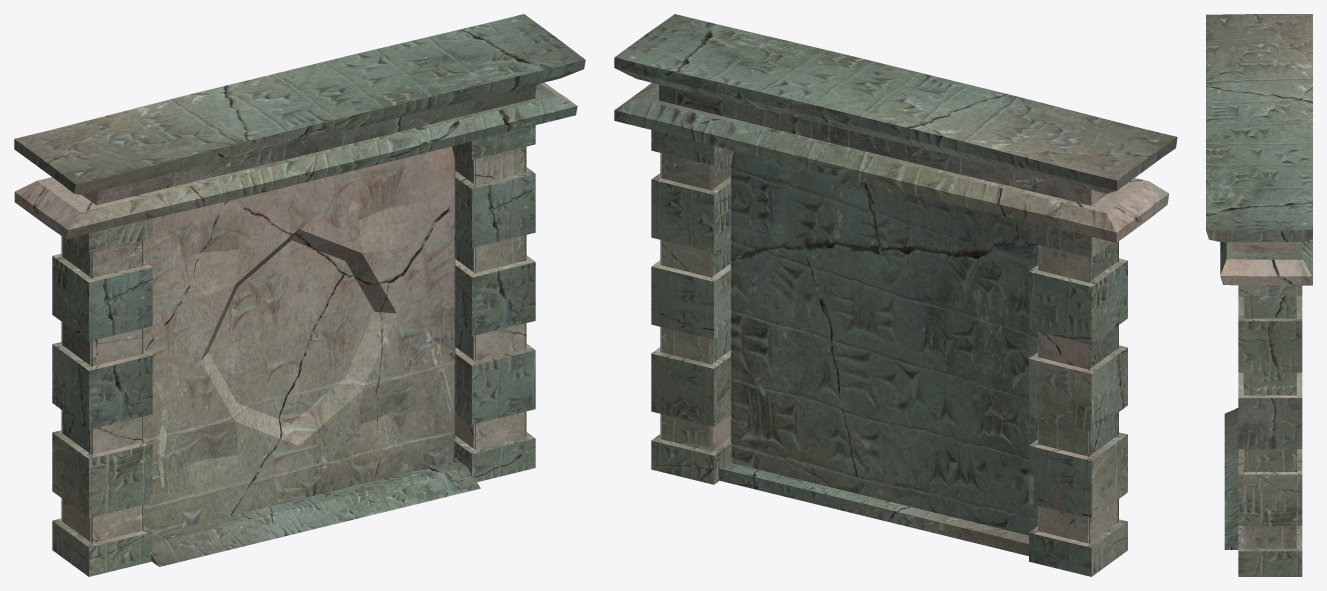
Rendered from DoorAnimated(Textured)2.fbx.
3 views of the same model, side by side, from view 1: azimuth 30°, elevation 25°; view 2: azimuth 150°, elevation 25°; view 3: azimuth 270°, elevation 25° (orthographic). The views are drawn at different scales.
Visible parts, largest first — view 1: pCube5, pCube3, pCube1, pCube2, pCube4; view 2: pCube5, pCube3, pCube1, pCube2, pCube4; view 3: pCube3, pCube2, pCube4.
Boxes of the visible parts, <box> form: pCube5: <box>143,146,455,534</box>; pCube3: <box>14,14,585,238</box>; pCube1: <box>52,218,152,576</box>; pCube2: <box>452,125,535,482</box>; pCube4: <box>151,458,480,566</box>; pCube5: <box>730,151,1037,535</box>; pCube3: <box>614,14,1177,242</box>; pCube1: <box>1029,222,1127,576</box>; pCube2: <box>651,130,734,484</box>; pCube4: <box>719,459,1028,555</box>; pCube3: <box>1206,14,1312,285</box>; pCube2: <box>1238,285,1302,576</box>; pCube4: <box>1224,408,1238,549</box>.
Bounding box in the file's own units: 19.23 × 14.99 × 4.01.
